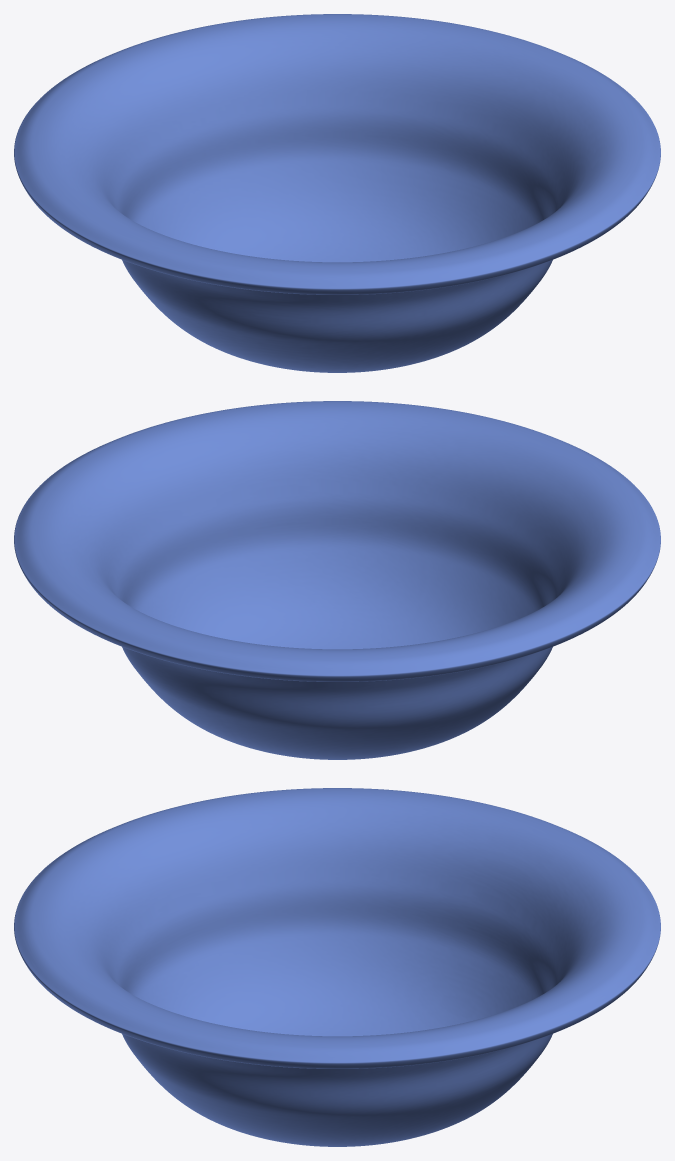
3 renders of one model, top to bottom at view 1: azimuth 30°, elevation 25°; view 2: azimuth 150°, elevation 25°; view 3: azimuth 270°, elevation 25°, orthographic.
Size of the model in its own units: 0.3011 by 0.0929 by 0.3011.
